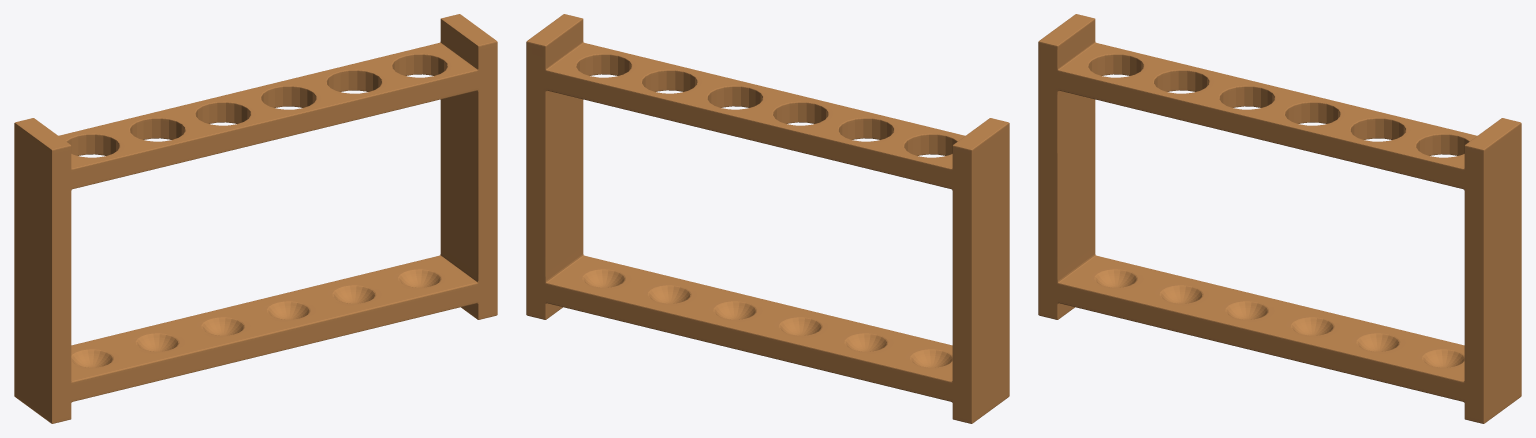
File: empty-test-tube-rack.glb
3 renders of one model, left to right at view 1: azimuth 30°, elevation 25°; view 2: azimuth 150°, elevation 25°; view 3: azimuth 330°, elevation 25°, orthographic.
Parts seen in each view (by area): view 1: emptyTestTubeRack; view 2: emptyTestTubeRack; view 3: emptyTestTubeRack.
Boxes of the visible parts, box(x1,y1,x2,y2) form: emptyTestTubeRack: box(14, 14, 497, 423); emptyTestTubeRack: box(526, 14, 1009, 423); emptyTestTubeRack: box(1038, 14, 1521, 423).
Bounding box in the file's own units: 0.272 × 0.16 × 0.04.
